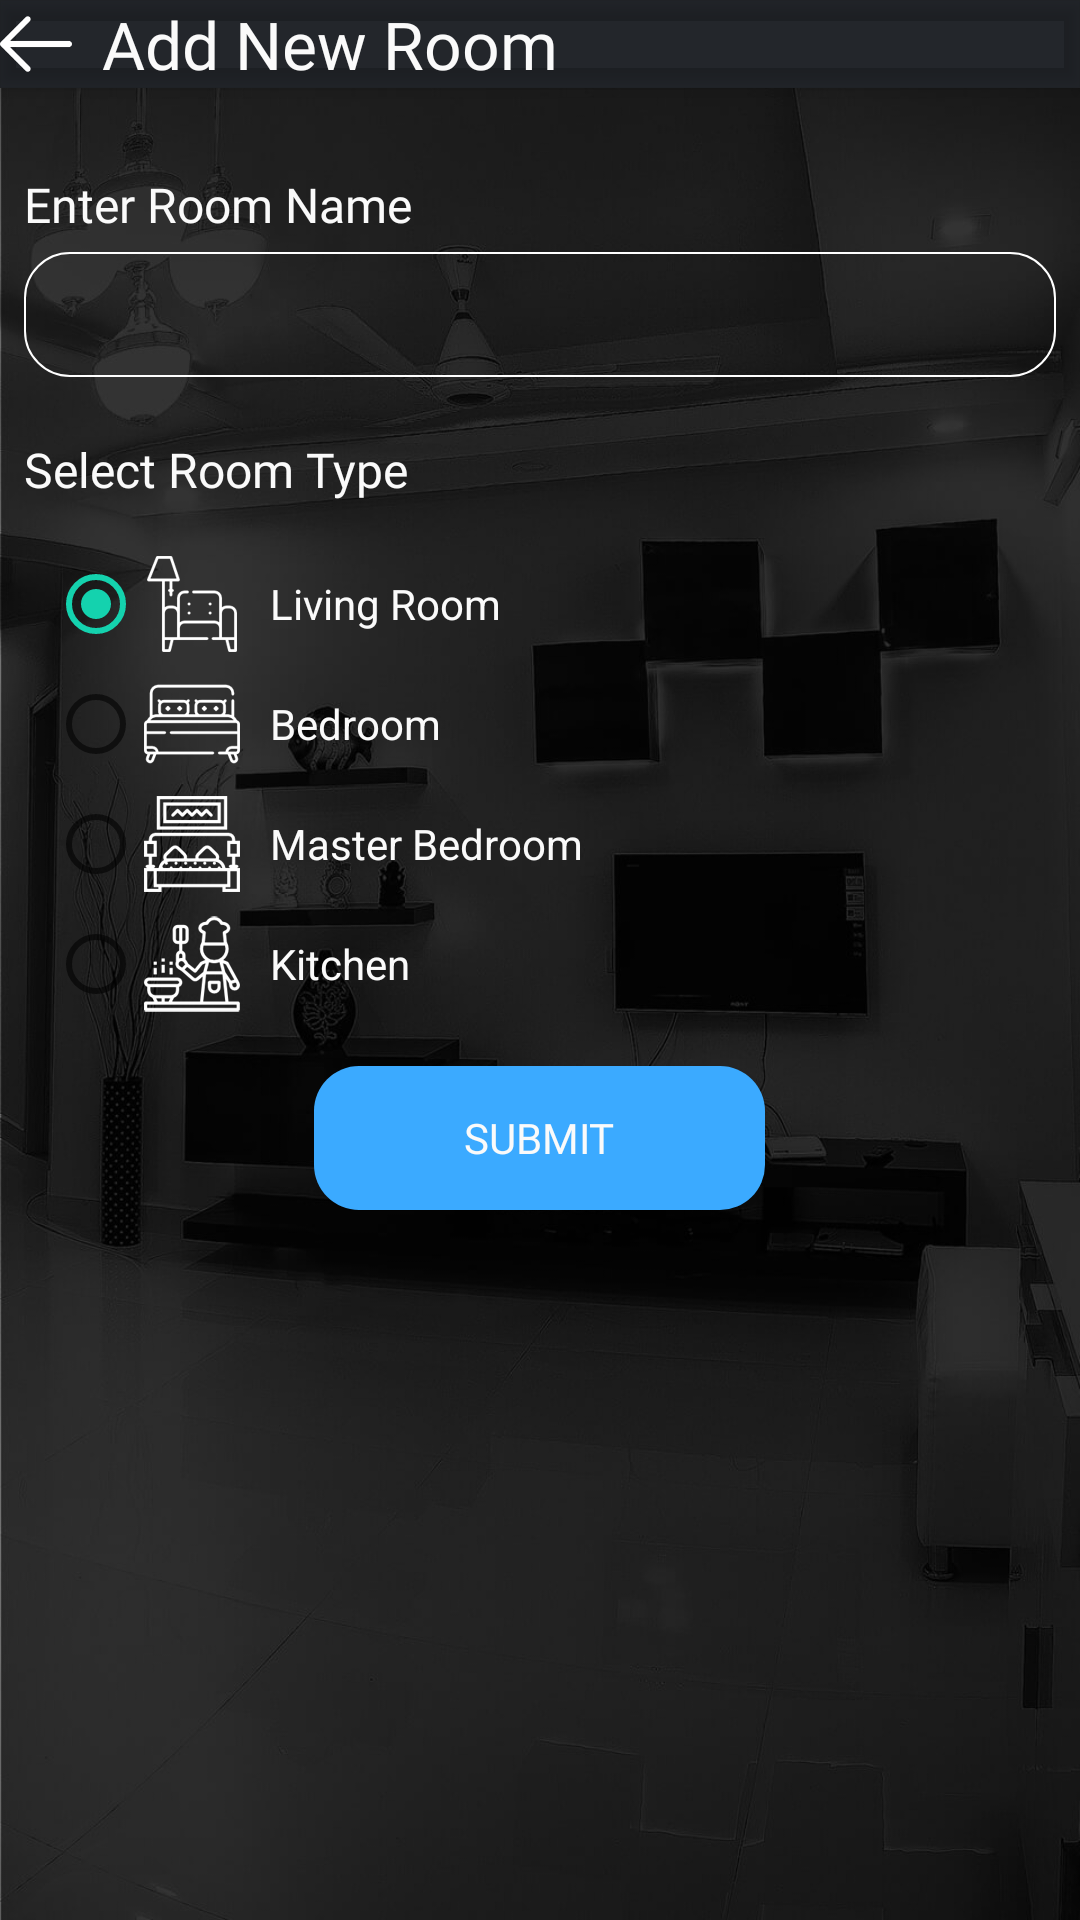

Named icons in this screenshot (1080px x 1920px) and their centers, point (x, y):
back: point (36, 44)
